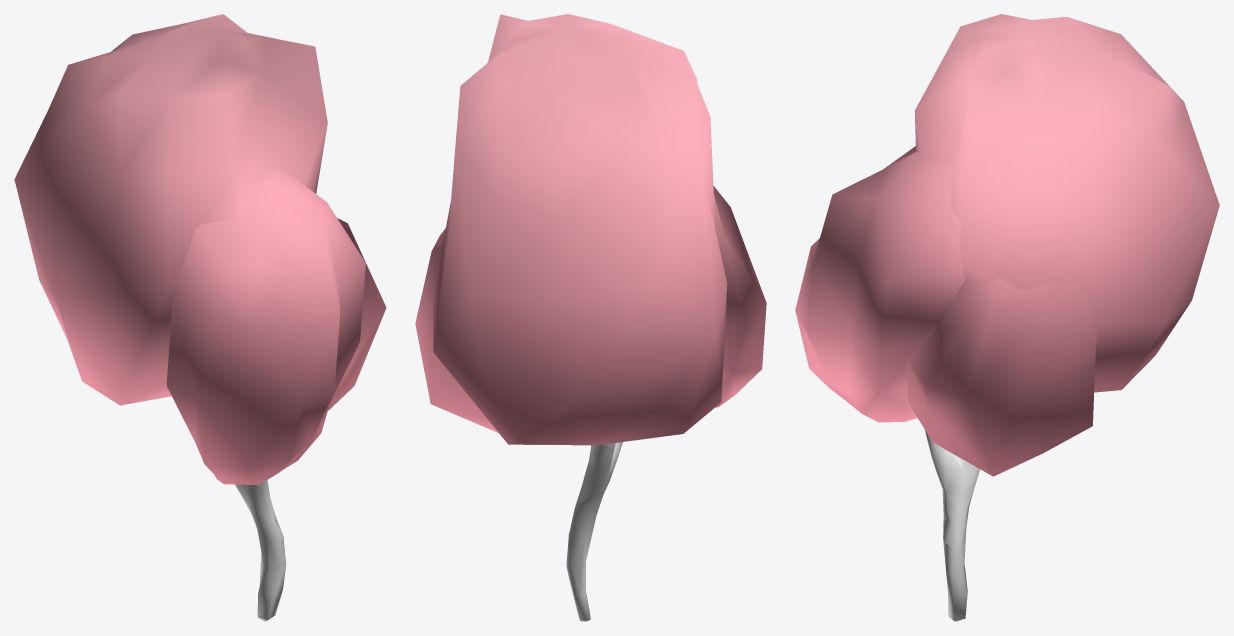
File: Cotton_2.fbx
3 renders of one model, left to right at view 1: azimuth 30°, elevation 25°; view 2: azimuth 150°, elevation 25°; view 3: azimuth 270°, elevation 25°, orthographic. The views are drawn at different scales.
Visible parts, largest first — view 1: Cotton_1, Cotton_1_Branch; view 2: Cotton_1, Cotton_1_Branch; view 3: Cotton_1, Cotton_1_Branch.
Part boxes in pixels (x1=…): Cotton_1: x1=14, y1=14, x2=386, y2=485; Cotton_1_Branch: x1=234, y1=480, x2=286, y2=621; Cotton_1: x1=415, y1=14, x2=766, y2=445; Cotton_1_Branch: x1=566, y1=442, x2=622, y2=621; Cotton_1: x1=795, y1=14, x2=1219, y2=476; Cotton_1_Branch: x1=925, y1=430, x2=979, y2=621.
Size of the model in its own units: 196 by 367 by 245.
Materials: 2 (1 with a texture image).
